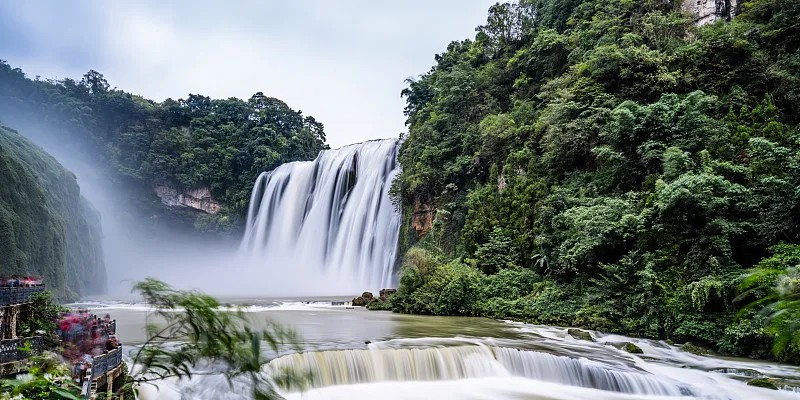Huangguoshu: (238, 136, 401, 297)
